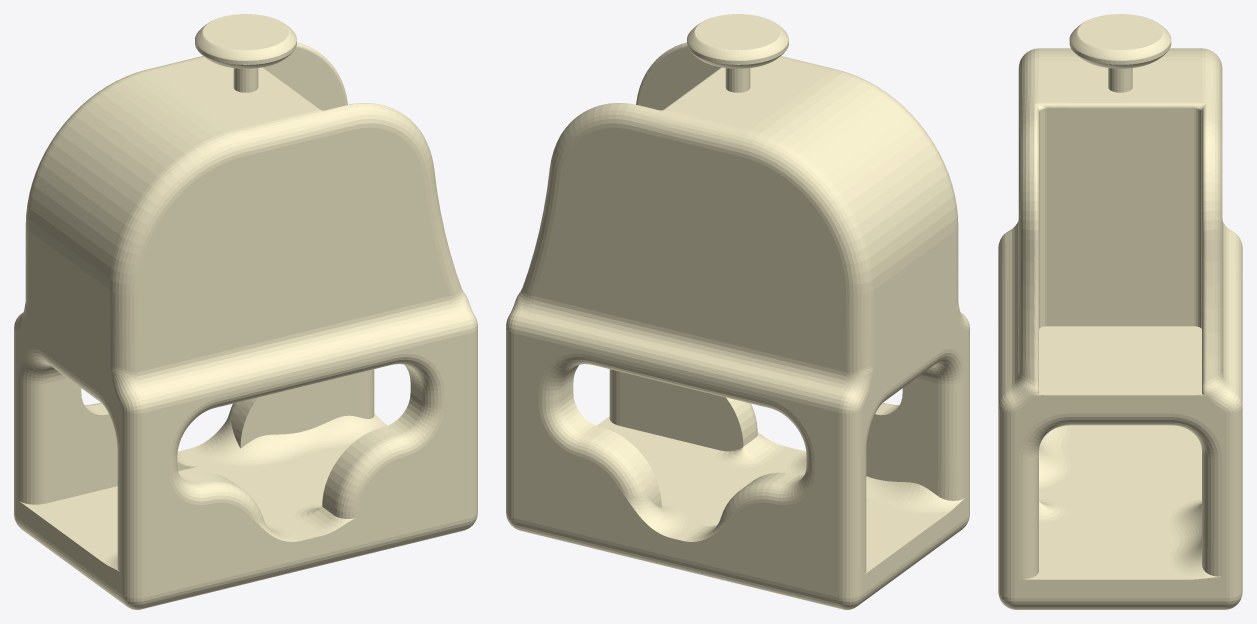
Rendered from sejongDel_body.dae.
The picture shows the model from 3 angles, left to right: view 1: azimuth 30°, elevation 25°; view 2: azimuth 150°, elevation 25°; view 3: azimuth 270°, elevation 25°; orthographic projection.
Visible parts, largest first — view 1: node_d945ae59_54a4_454e_bbbf_5e0f2295286d_mesh0; view 2: node_d945ae59_54a4_454e_bbbf_5e0f2295286d_mesh0; view 3: node_d945ae59_54a4_454e_bbbf_5e0f2295286d_mesh0.
Part boxes in pixels (x1,y1,x2,y2): node_d945ae59_54a4_454e_bbbf_5e0f2295286d_mesh0: (14,14,477,609); node_d945ae59_54a4_454e_bbbf_5e0f2295286d_mesh0: (506,14,969,609); node_d945ae59_54a4_454e_bbbf_5e0f2295286d_mesh0: (998,14,1242,609).
Size of the model in its own units: 1000 by 600 by 1350.
